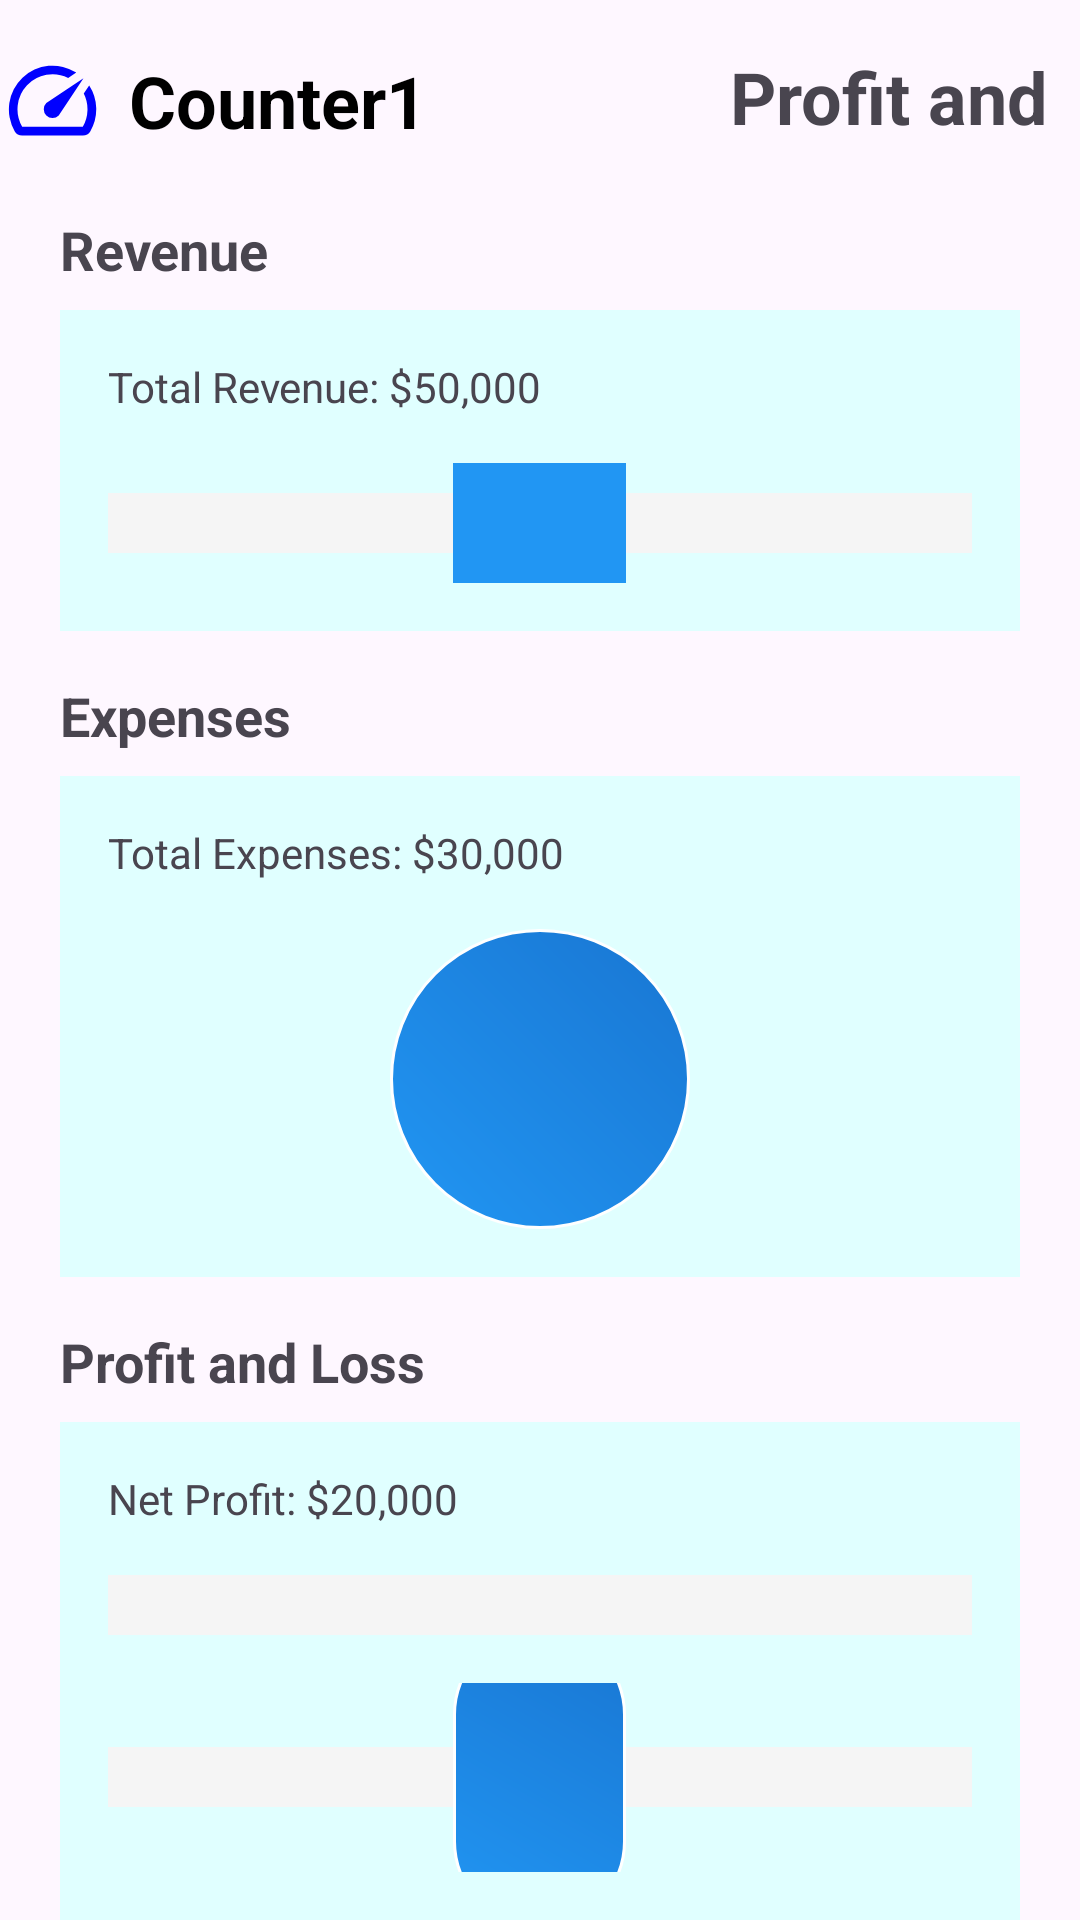

Where to tap for icons on this 1080*1920 app screen, as (x=x, y=y):
speed: (x=52, y=100)
